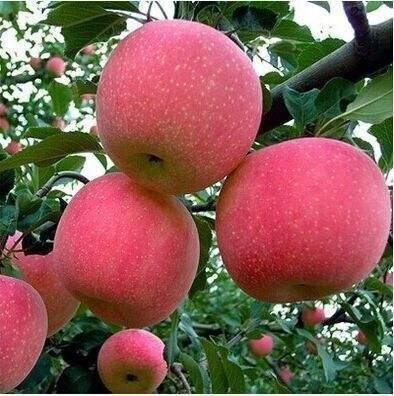apple: (213, 131, 390, 298), (97, 21, 264, 183), (54, 170, 198, 326), (1, 220, 80, 337), (1, 275, 47, 393), (95, 328, 166, 392), (300, 300, 324, 326), (248, 335, 272, 356), (45, 56, 65, 76)
